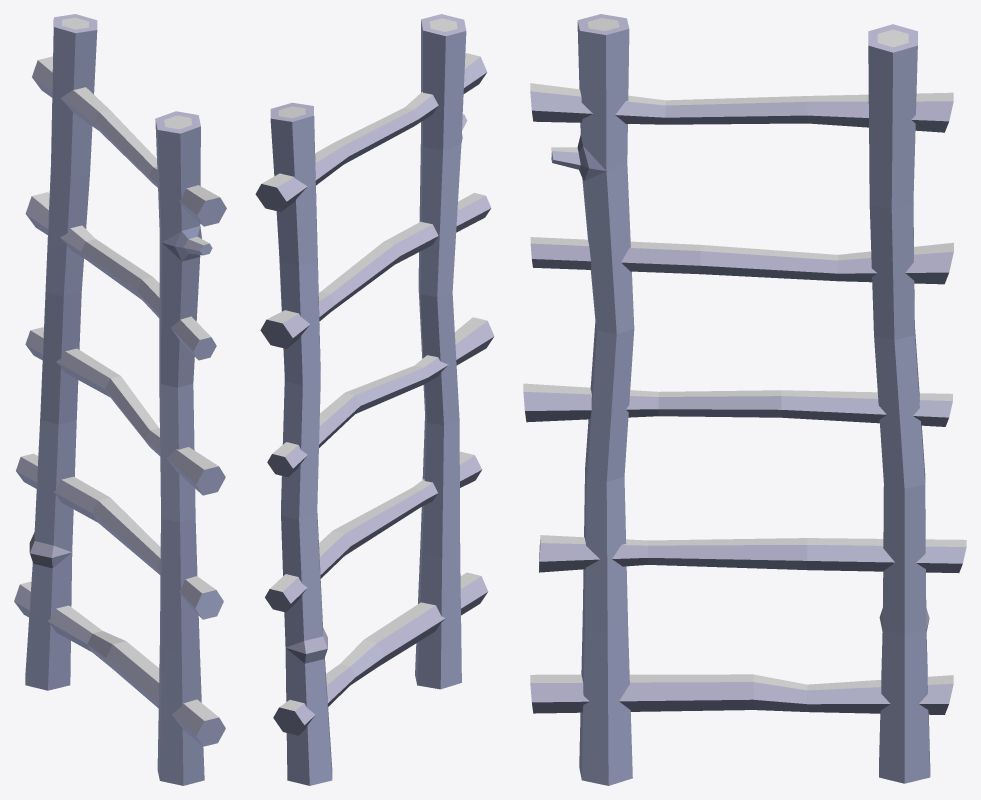
File: Prop_Ladder.fbx
The picture shows the model from 3 angles, left to right: view 1: azimuth 30°, elevation 25°; view 2: azimuth 150°, elevation 25°; view 3: azimuth 270°, elevation 25°; orthographic projection. The views are drawn at different scales.
Parts seen in each view (by area): view 1: Model_Stairs; view 2: Model_Stairs; view 3: Model_Stairs.
Part boxes in pixels (x1,y1,x2,y2): Model_Stairs: [14, 14, 226, 785]; Model_Stairs: [255, 14, 494, 785]; Model_Stairs: [523, 14, 966, 785].
Size of the model in its own units: 132 by 1219 by 654.
